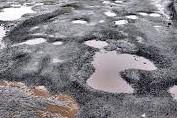pothole: (81, 40, 166, 98), (3, 79, 79, 110), (0, 0, 58, 22), (13, 32, 71, 51), (111, 14, 137, 30), (139, 6, 165, 21), (73, 15, 94, 29), (63, 2, 88, 13), (98, 0, 127, 7), (99, 9, 122, 17)
